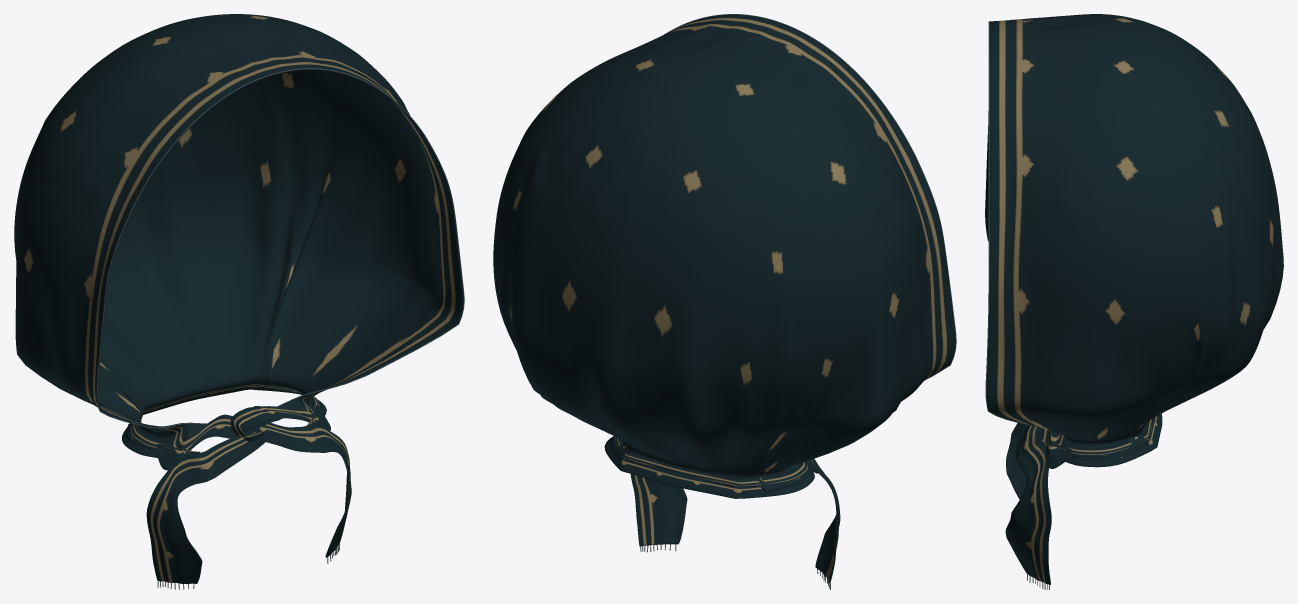
File: Feminine-triangle-pashmina243-headgear.glb
The picture shows the model from 3 angles, left to right: view 1: azimuth 30°, elevation 25°; view 2: azimuth 150°, elevation 25°; view 3: azimuth 270°, elevation 25°; orthographic projection. The views are drawn at different scales.
Parts seen in each view (by area): view 1: 226 headgear / Headwear / continuous woven pashmina239, 226 headgear / Headwear / face edge239; view 2: 226 headgear / Headwear / continuous woven pashmina239, 226 headgear / Headwear / face edge239; view 3: 226 headgear / Headwear / continuous woven pashmina239, 226 headgear / Headwear / face edge239.
Part boxes in pixels (x1,y1,x2,y2): 226 headgear / Headwear / continuous woven pashmina239: [14, 14, 463, 583]; 226 headgear / Headwear / face edge239: [96, 68, 464, 428]; 226 headgear / Headwear / continuous woven pashmina239: [493, 14, 955, 583]; 226 headgear / Headwear / face edge239: [664, 14, 956, 379]; 226 headgear / Headwear / continuous woven pashmina239: [985, 14, 1283, 584]; 226 headgear / Headwear / face edge239: [985, 21, 1033, 425].
Size of the model in its own units: 1.02 by 1.35 by 0.7116.
Materials: 3 (1 with a texture image).
